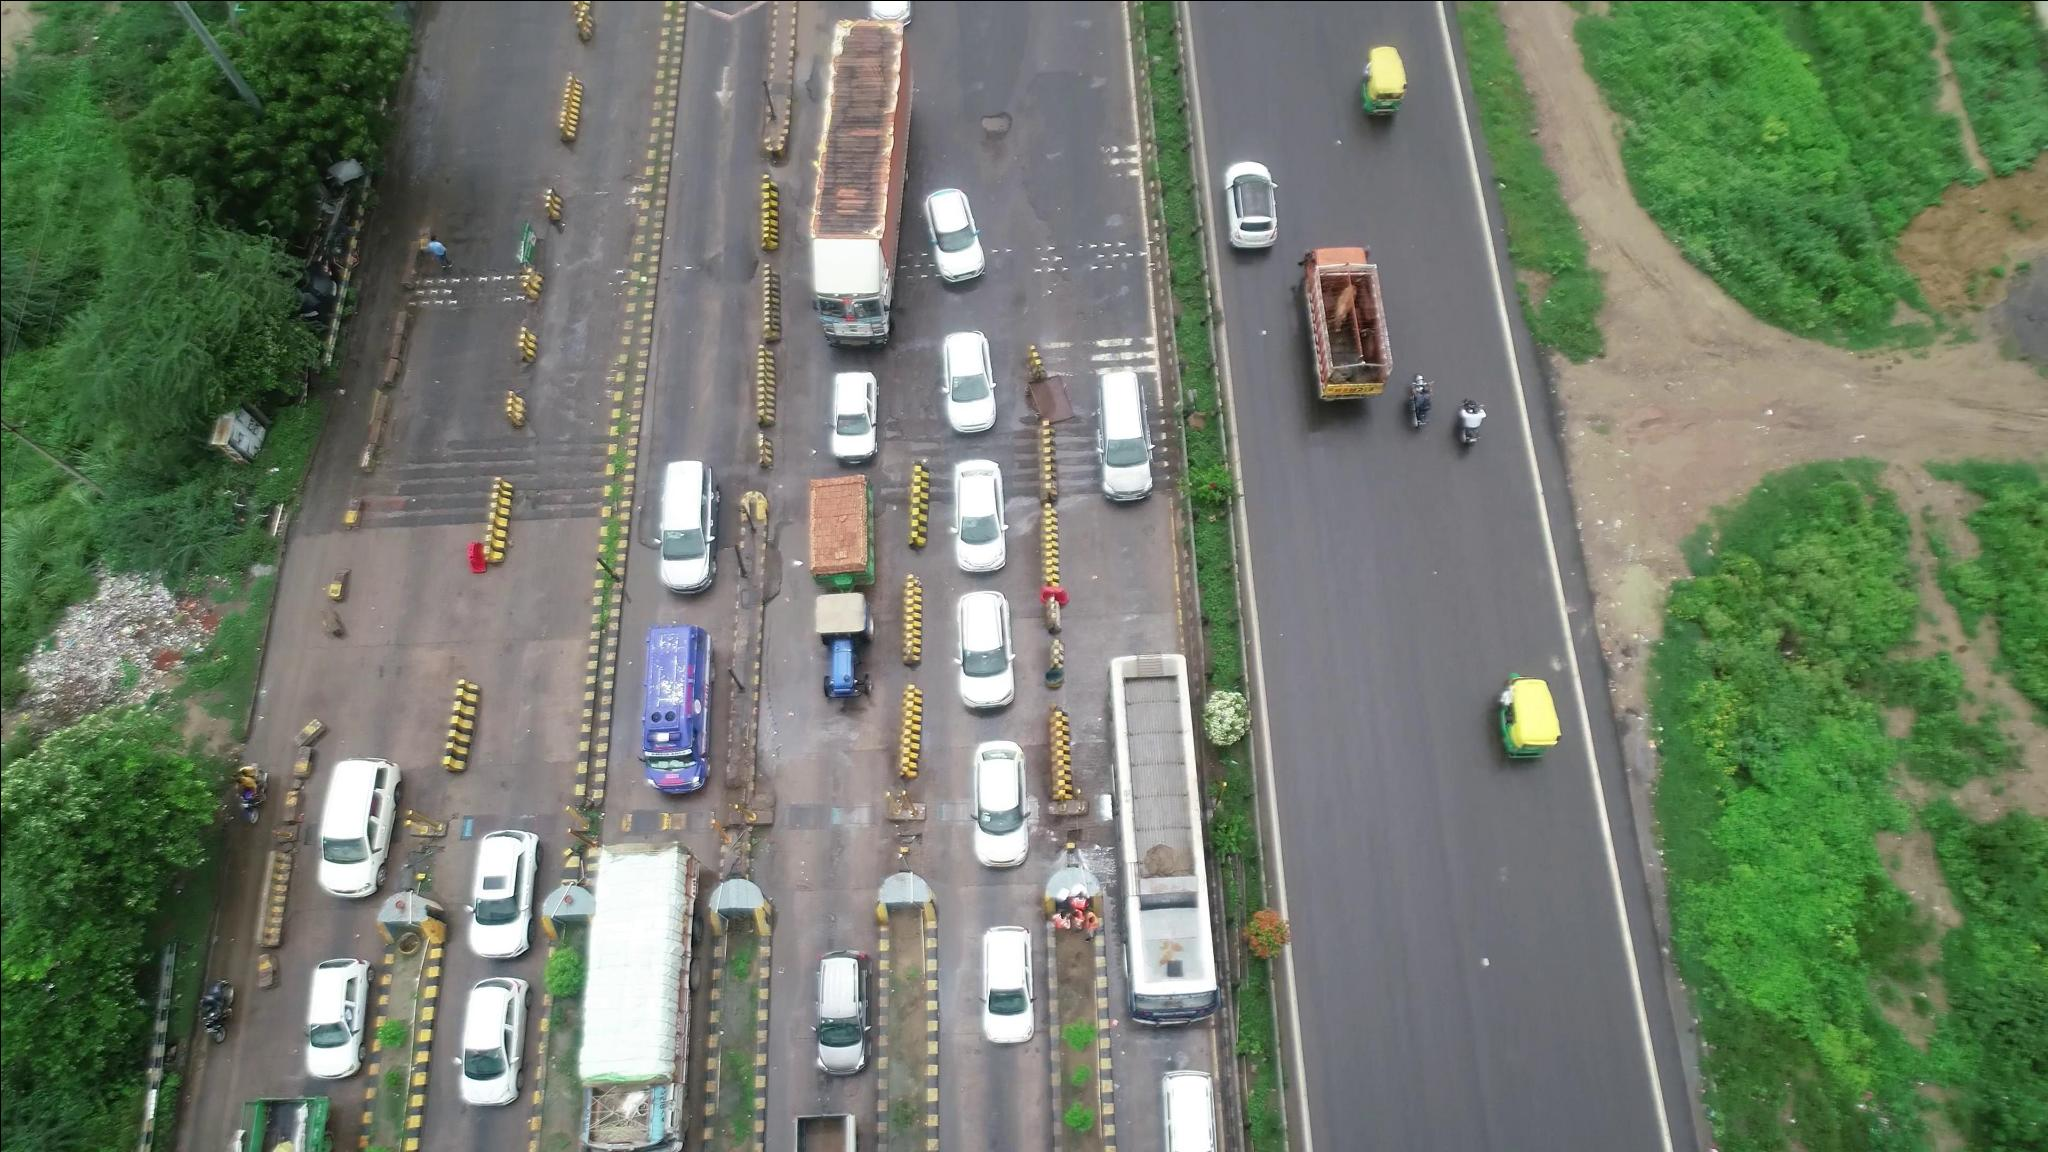Potholes: (961, 70, 1055, 151)
Road_side_garbage: (35, 567, 197, 737)
